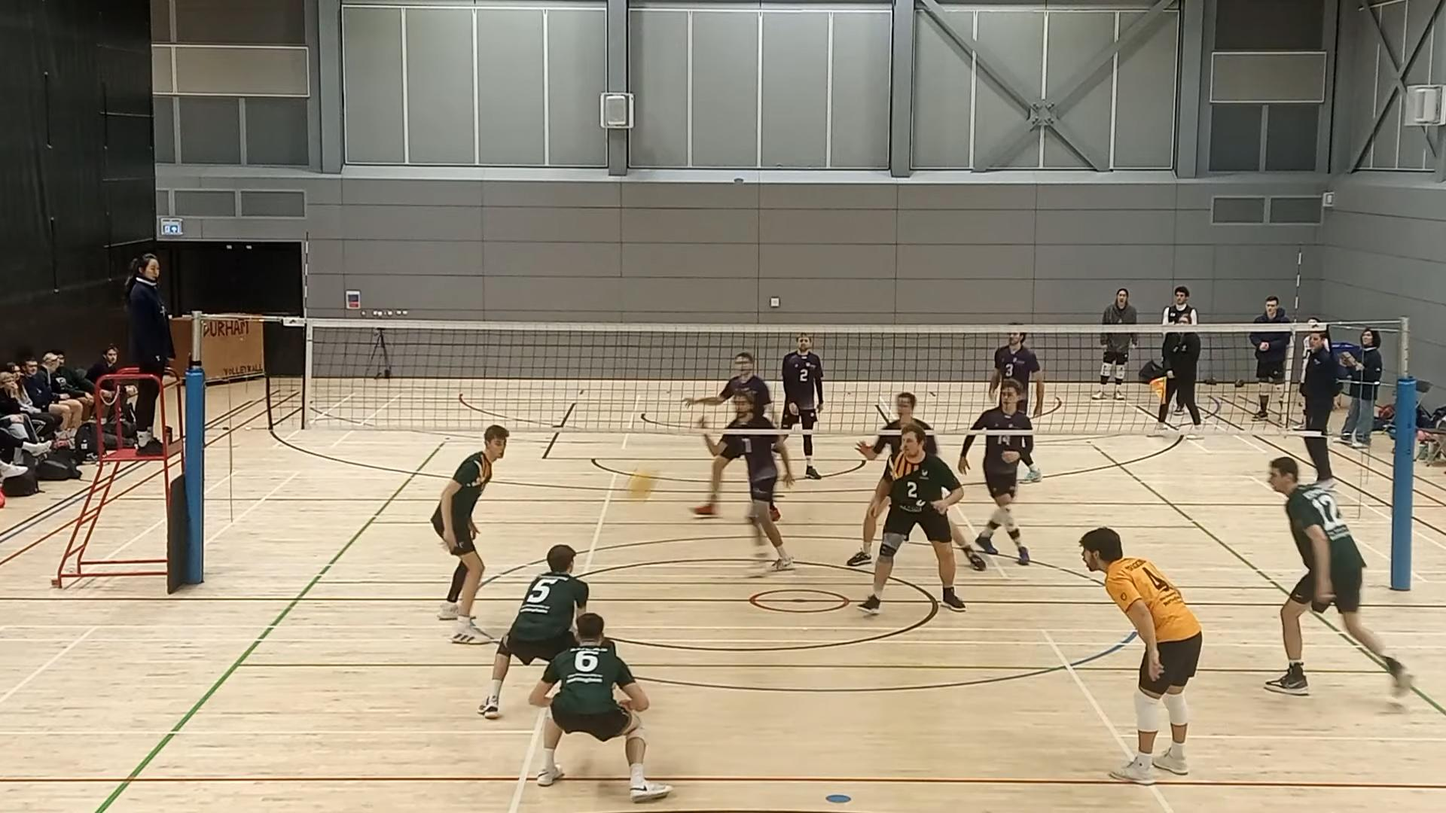ricezione: (481, 541, 592, 723)
